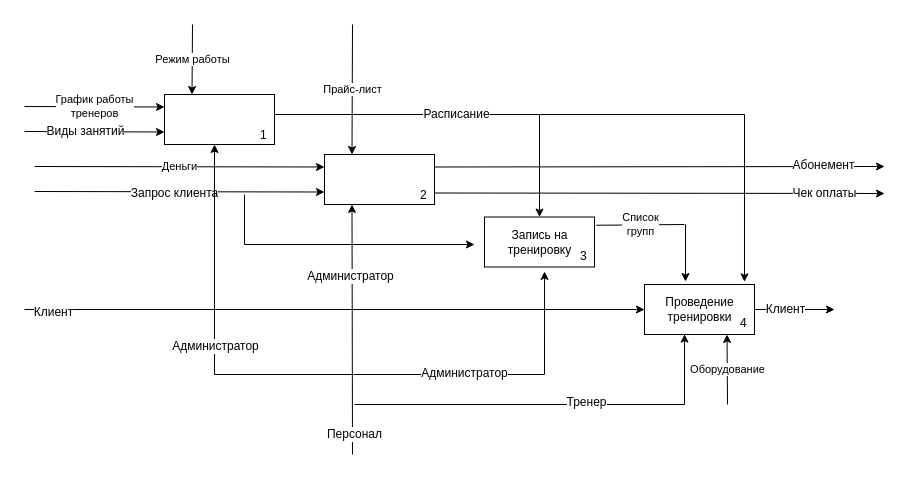
Some shapes in this 910 by 480 pixel diagram are drawn without their labels. The shapes that lost their labels are listed below. From the top down, each one's box as (x1, y1, x2, y2) in pixels, then its label:
(164, 94, 274, 144): Составление расписания
(324, 154, 434, 204): Продажа абонемента
